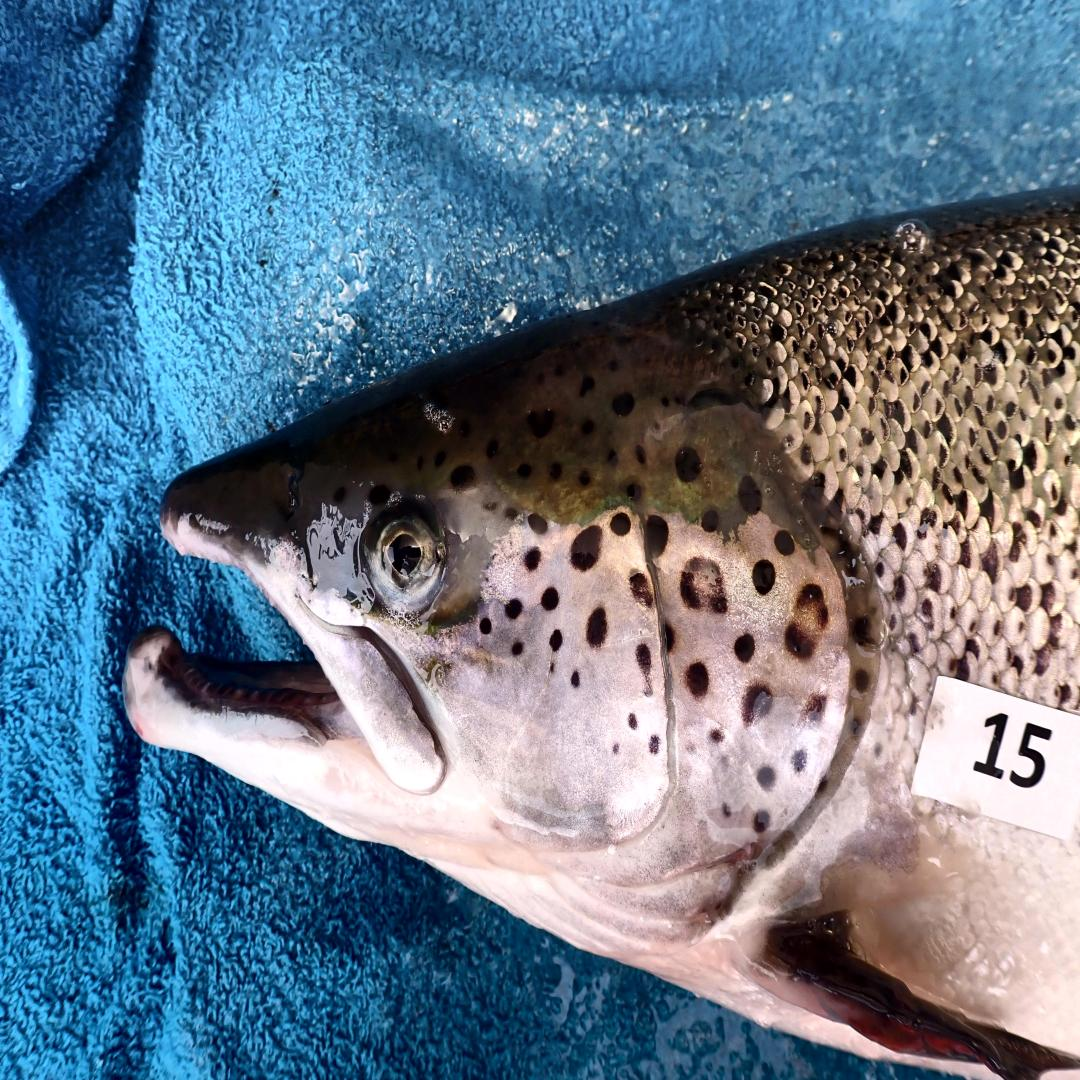spot: (785, 582, 829, 658), (679, 557, 728, 613), (570, 526, 601, 571), (742, 683, 772, 726), (645, 515, 669, 557), (629, 571, 654, 608), (635, 644, 652, 695), (586, 608, 608, 647), (686, 661, 709, 698), (753, 560, 776, 596), (851, 616, 874, 646), (734, 633, 755, 664), (806, 695, 827, 723), (774, 529, 795, 557), (610, 512, 631, 537), (757, 765, 776, 790), (701, 508, 720, 532), (664, 622, 677, 655), (791, 748, 808, 773), (527, 515, 548, 534), (525, 548, 542, 571), (504, 599, 523, 619), (753, 810, 770, 832), (542, 588, 559, 610), (854, 669, 870, 692), (551, 630, 563, 652), (709, 728, 726, 742), (479, 619, 491, 636), (650, 734, 660, 754), (816, 777, 827, 794), (510, 641, 523, 655), (721, 802, 732, 818), (851, 717, 860, 734), (629, 712, 637, 728), (572, 672, 580, 686), (612, 742, 620, 754), (549, 663, 554, 674)
